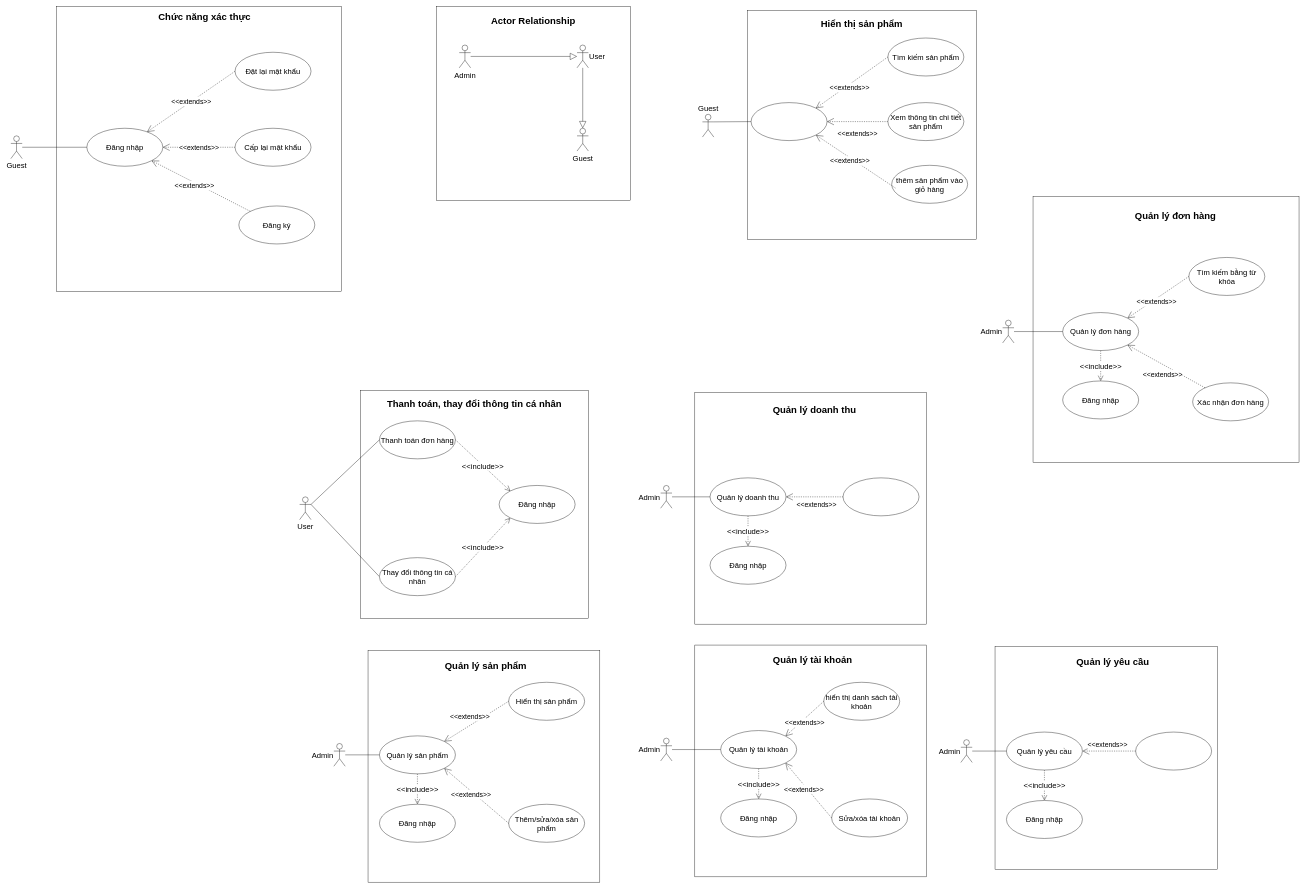
Some shapes in this 1306 by 889 pixel diagram are drawn without their labels. The shapes that lost their labels are listed below. From the top down, each one's box as (x1, y1, x2, y2) in pixels, then its label:
(751, 102, 827, 141): Hiển thị danh sách sản phẩm
(843, 477, 919, 516): Xem doanh thu
(1135, 732, 1212, 770): Hiển thị danh sách yêu cầu
